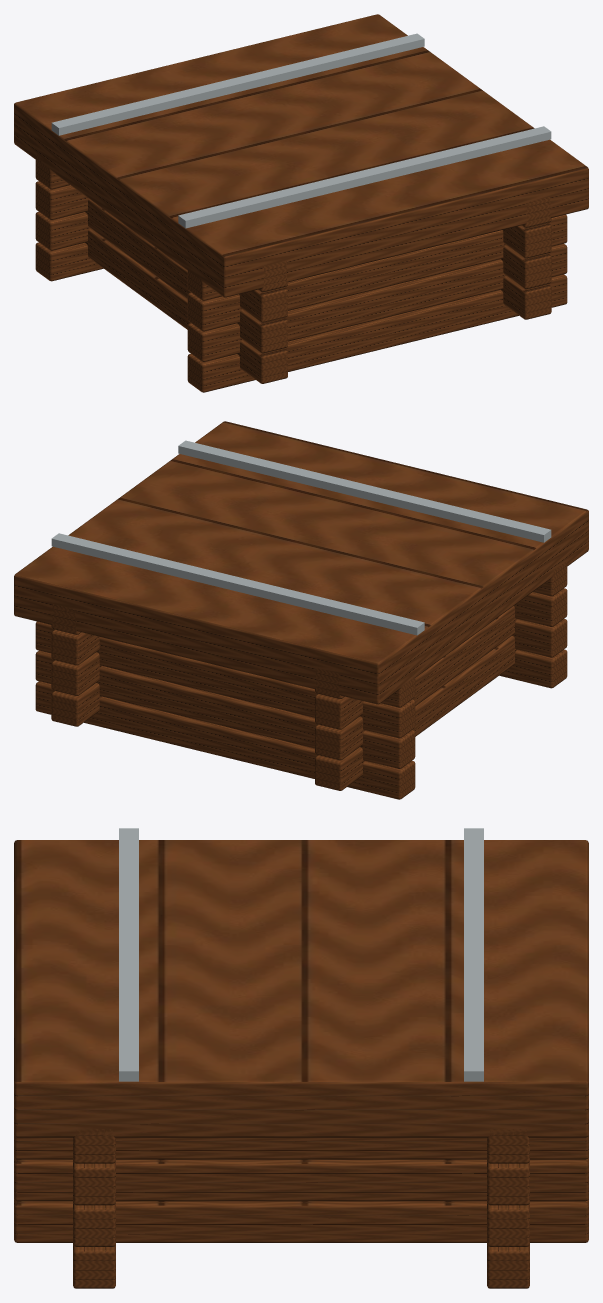
File: prehistoric-survivor-settlement-crib-store-platform-d9a6fd9b__23179.glb
3 renders of one model, top to bottom at view 1: azimuth 30°, elevation 25°; view 2: azimuth 150°, elevation 25°; view 3: azimuth 270°, elevation 25°, orthographic. The views are drawn at different scales.
Visible parts, largest first — view 1: crib-store-platform; view 2: crib-store-platform; view 3: crib-store-platform.
Boxes of the visible parts, x1,y1,x2,y2 form: crib-store-platform: (14, 14, 588, 392); crib-store-platform: (14, 421, 588, 799); crib-store-platform: (14, 828, 588, 1288).
Size of the model in its own units: 2 by 0.84 by 2.
Materials: 2 (1 with a texture image).
